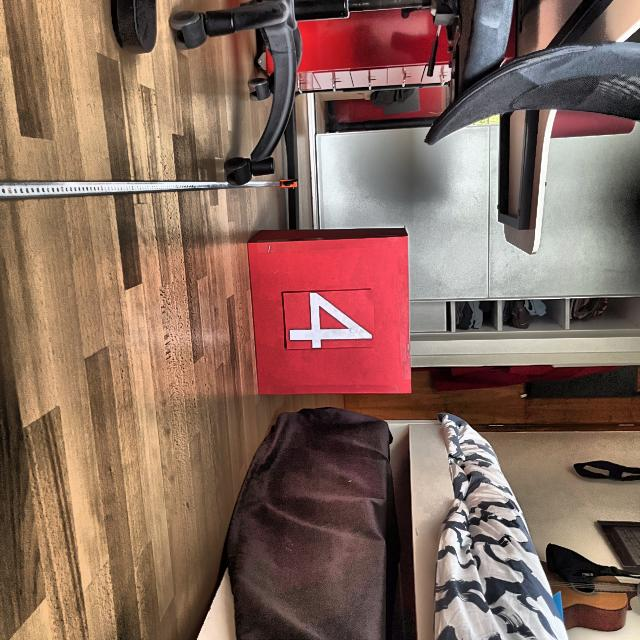four: (288, 292, 374, 351)
red box: (246, 227, 417, 398)
